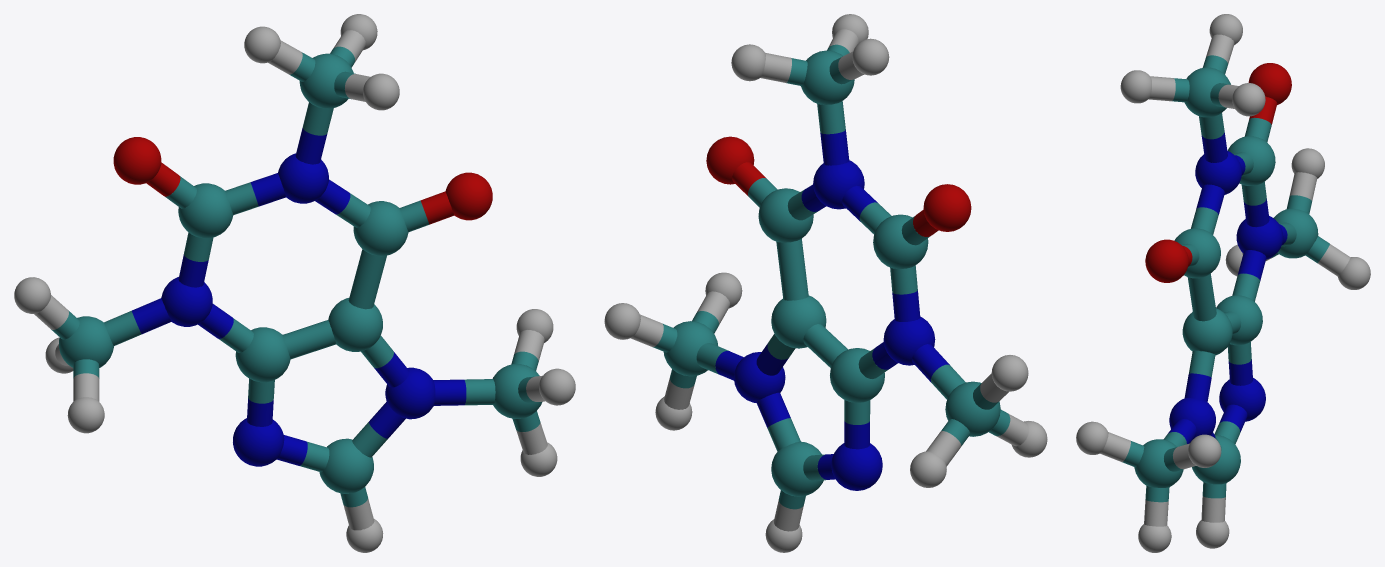
Rendered from caffine.obj.
3 views of the same model, side by side, from view 1: azimuth 30°, elevation 25°; view 2: azimuth 150°, elevation 25°; view 3: azimuth 270°, elevation 25° (orthographic). The views are drawn at different scales.
Parts seen in each view (by area): view 1: vmd_mol0_rep0; view 2: vmd_mol0_rep0; view 3: vmd_mol0_rep0.
Part boxes in pixels (<box>): vmd_mol0_rep0: <box>14,14,575,552</box>; vmd_mol0_rep0: <box>604,14,1047,552</box>; vmd_mol0_rep0: <box>1076,14,1370,552</box>.
Size of the model in its own units: 1.75 by 1.89 by 1.03.
